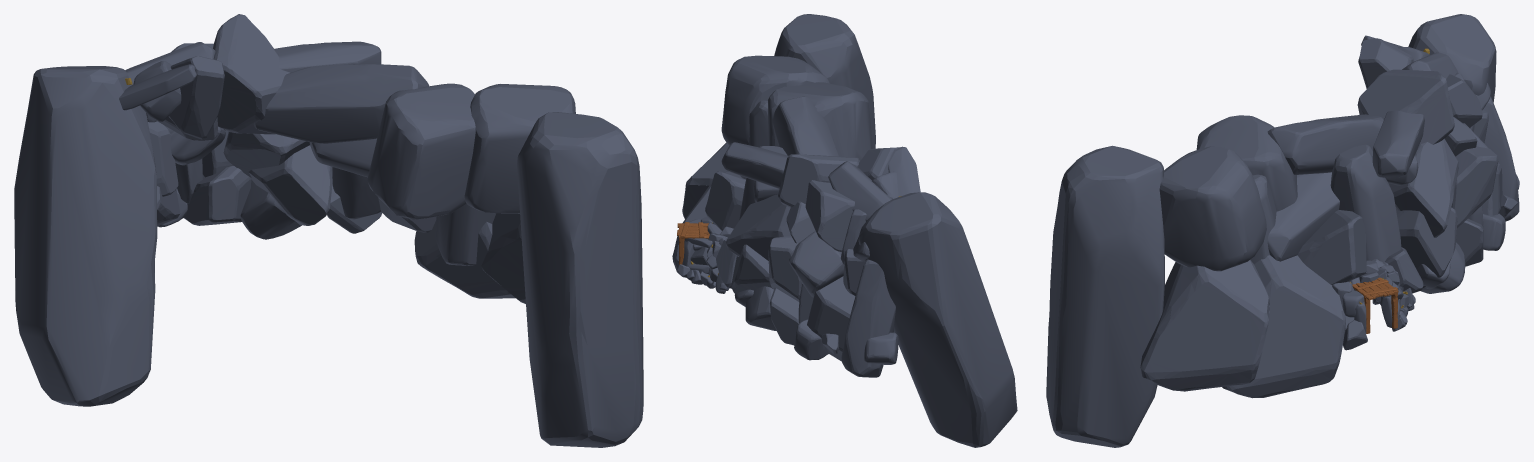
Rendered from GoldMine.fbx.
3 views of the same model, side by side, from view 1: azimuth 30°, elevation 25°; view 2: azimuth 150°, elevation 25°; view 3: azimuth 270°, elevation 25° (orthographic). The views are drawn at different scales.
Parts seen in each view (by area): view 1: Cube.004; view 2: Cube.004; view 3: Cube.004.
Boxes of the visible parts, bbox=[...] form: Cube.004: bbox=[14, 14, 643, 447]; Cube.004: bbox=[672, 14, 1017, 447]; Cube.004: bbox=[1046, 14, 1519, 447].
Bounding box in the file's own units: 5263 × 3516 × 5101.
